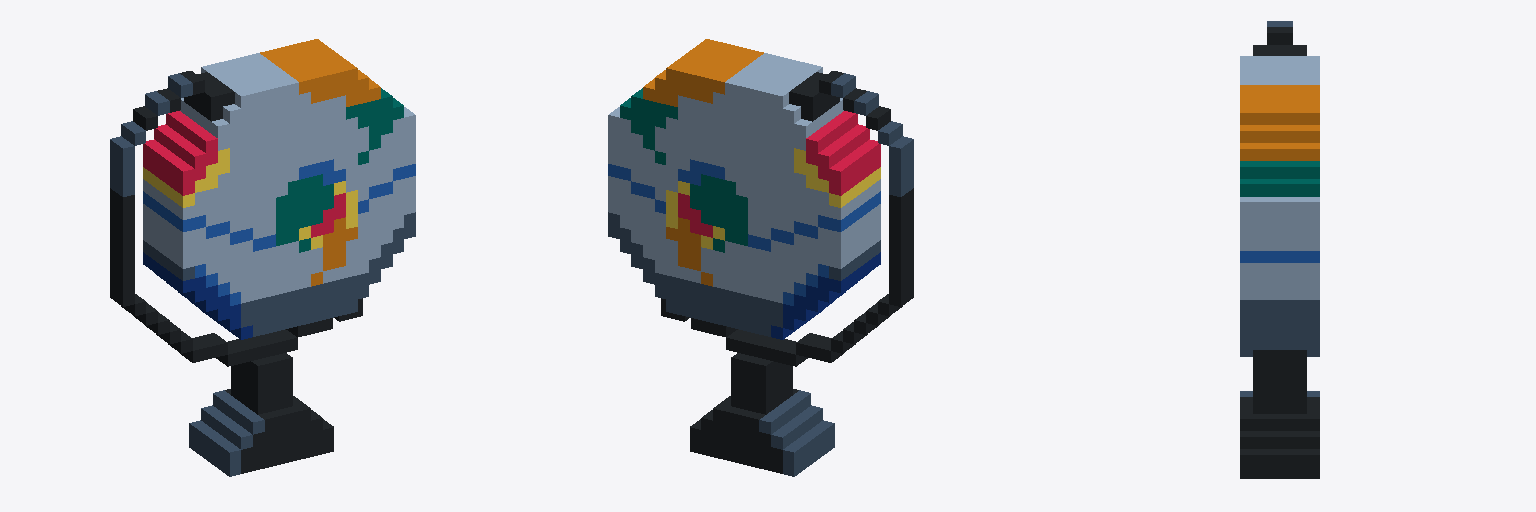
The model's file is Globe.obj.
3 views of the same model, side by side, from view 1: azimuth 30°, elevation 25°; view 2: azimuth 150°, elevation 25°; view 3: azimuth 270°, elevation 25° (orthographic).
Bounding box in the file's own units: 24 × 32 × 6.